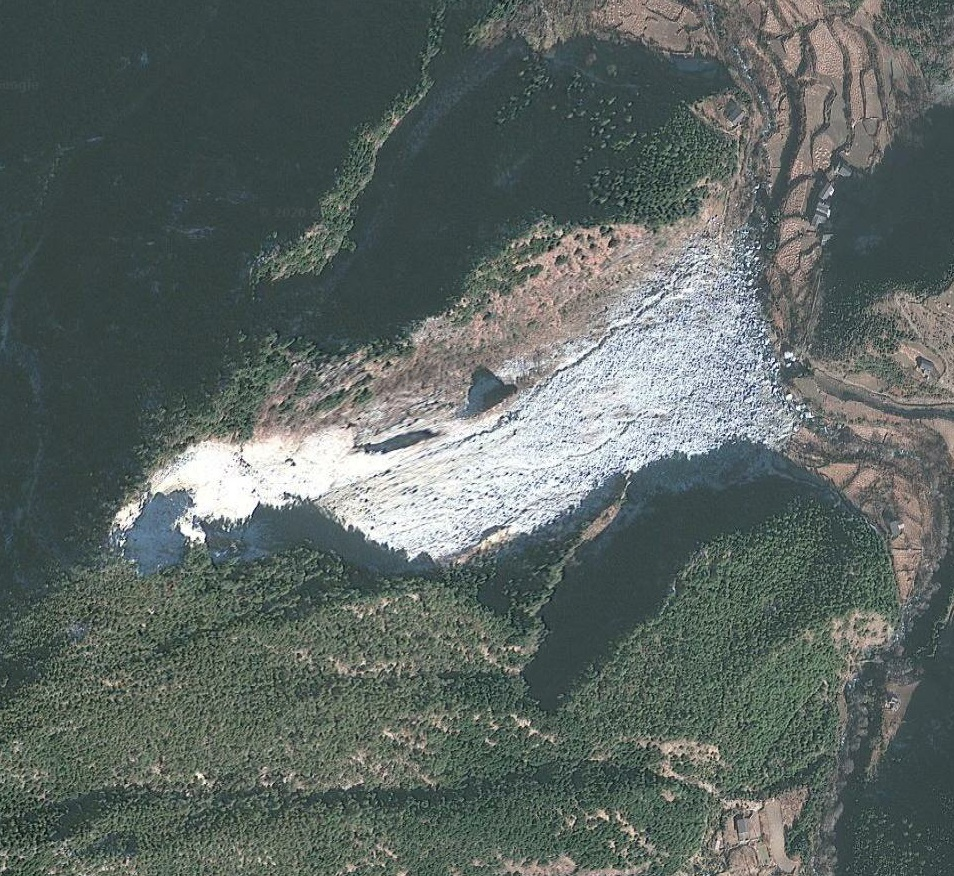slope: (105, 176, 806, 587)
